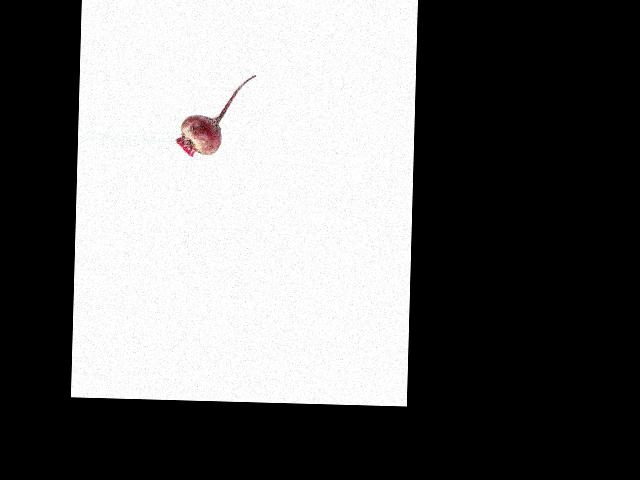beet: (175, 72, 255, 158)
